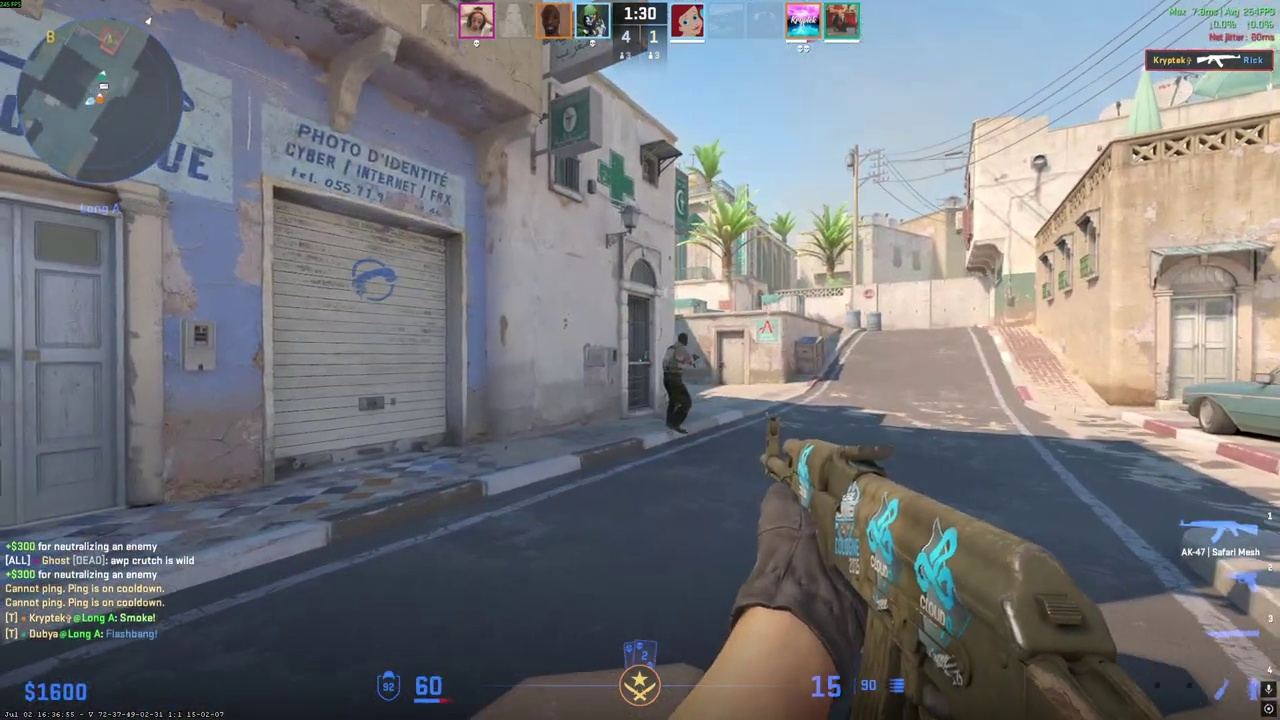Terrorist: (662, 332, 698, 434)
